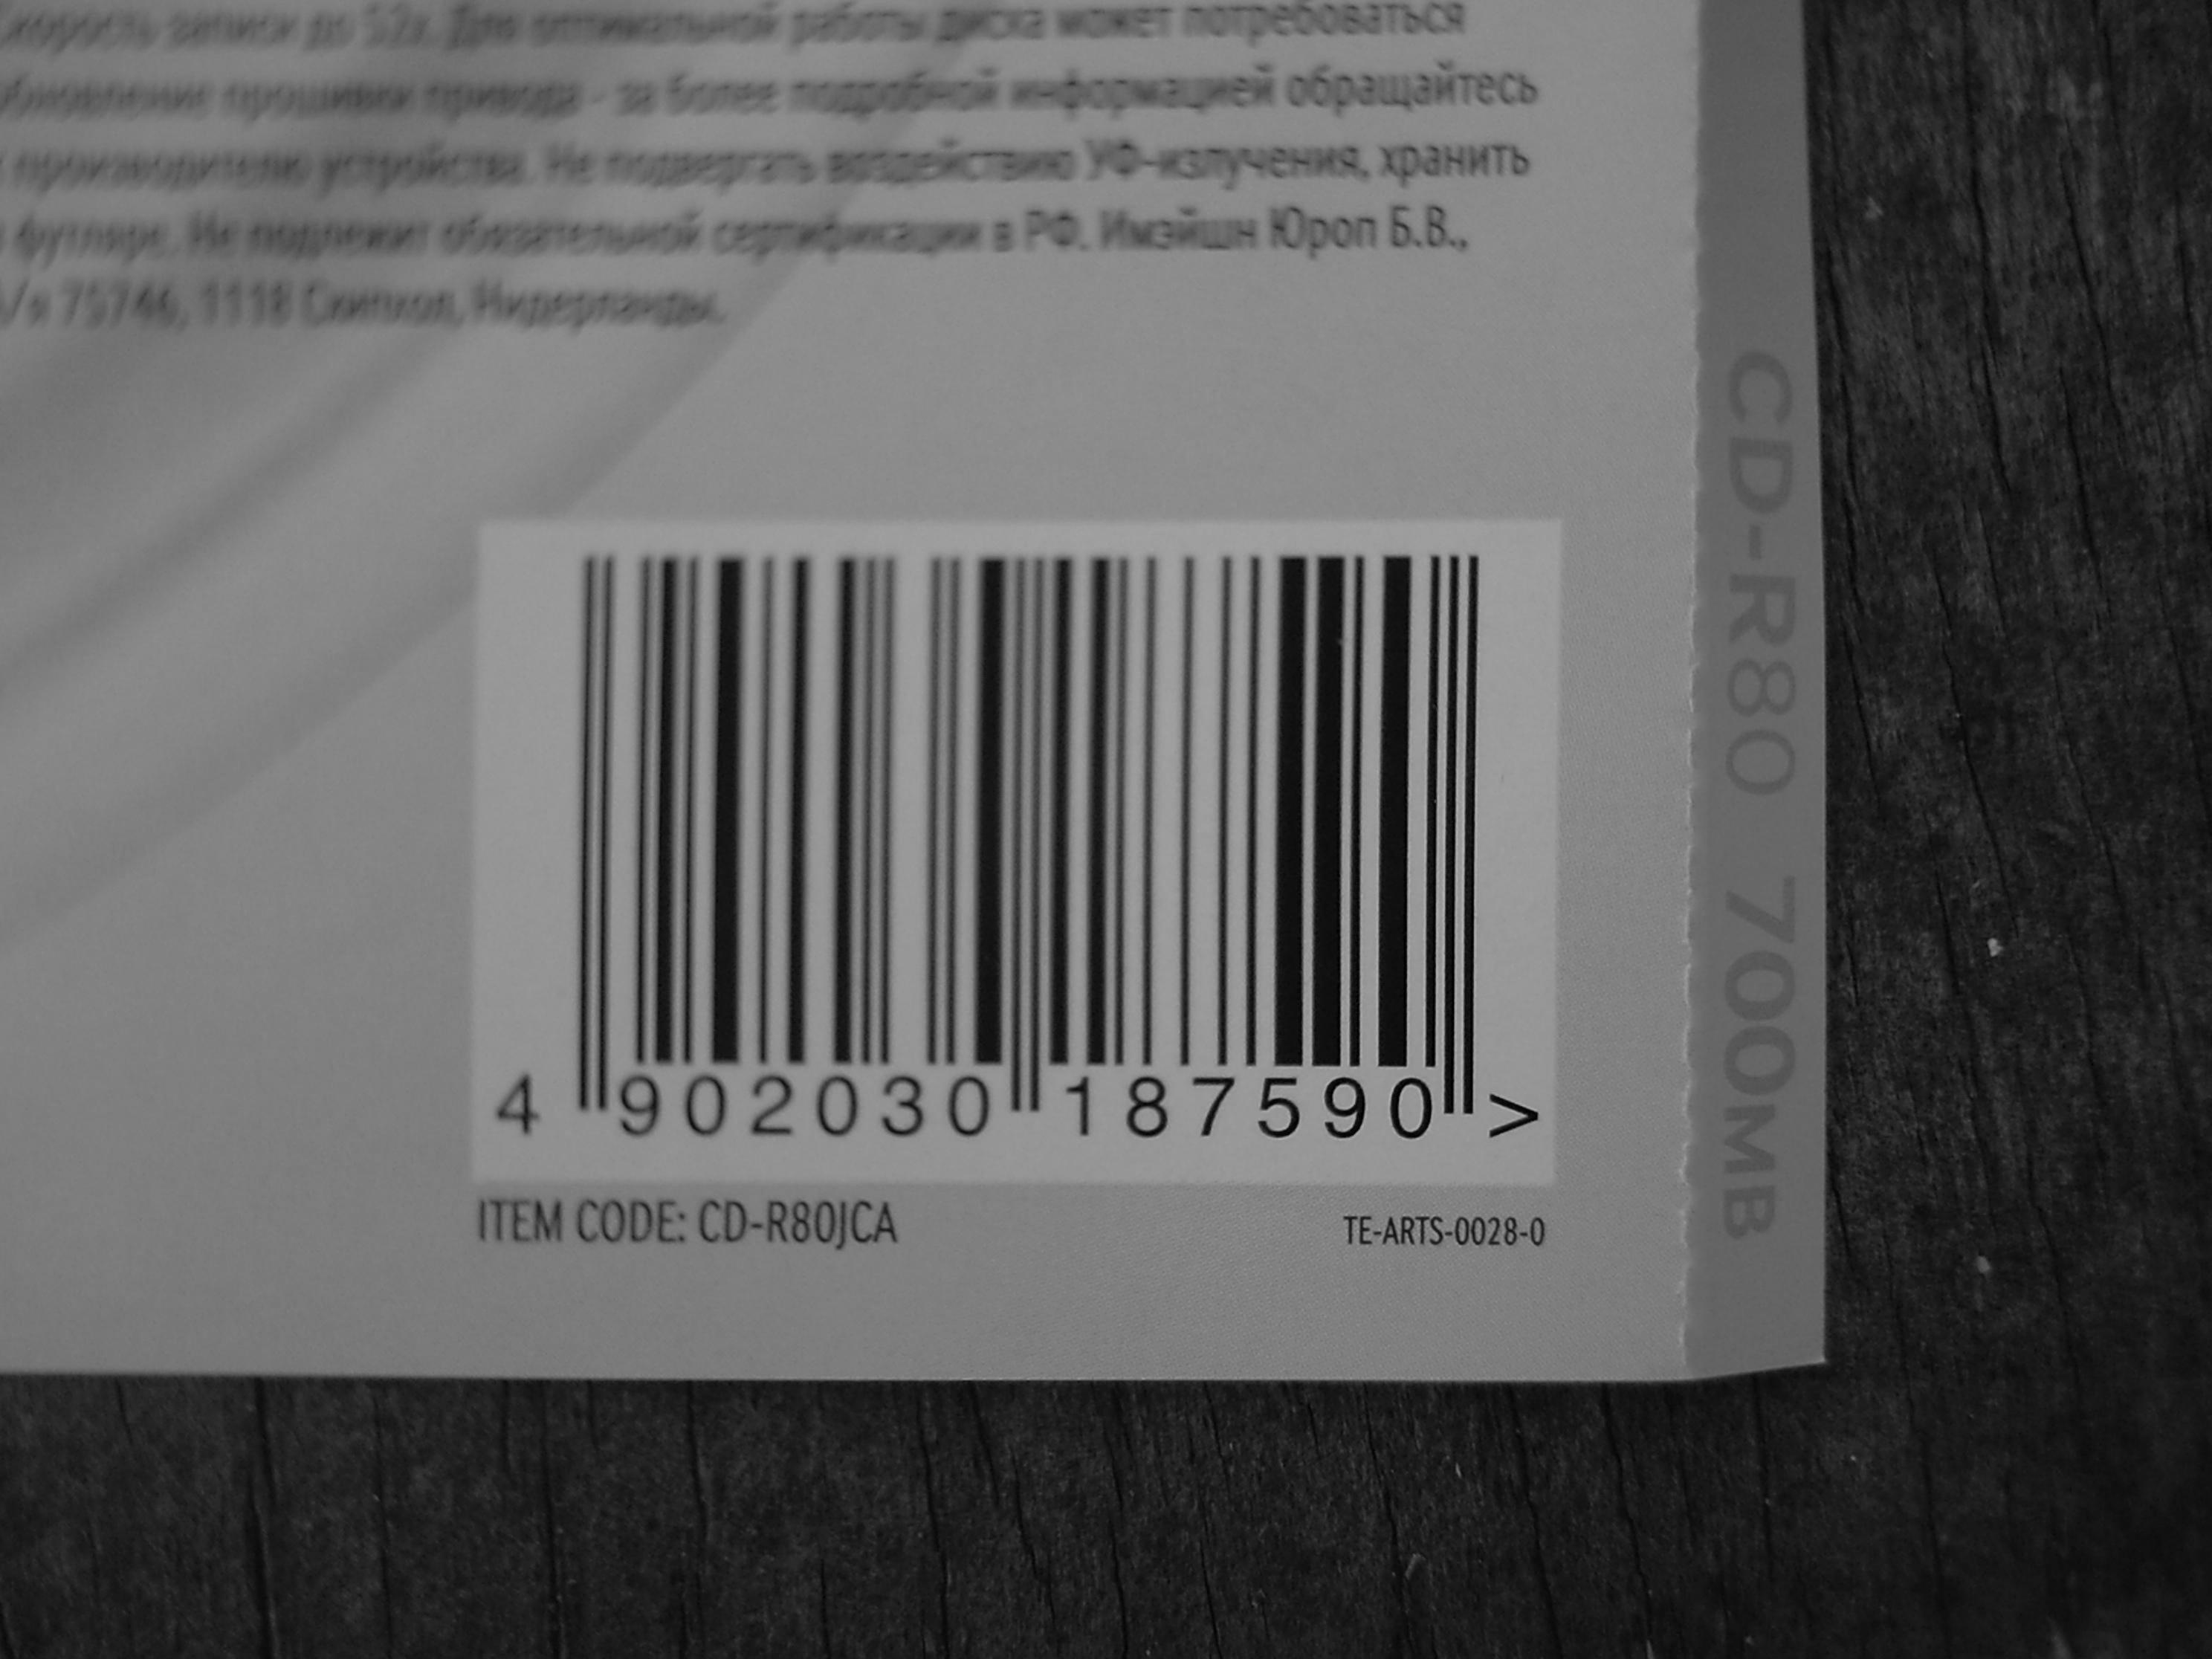Barcode: (545, 558, 1545, 1087)
